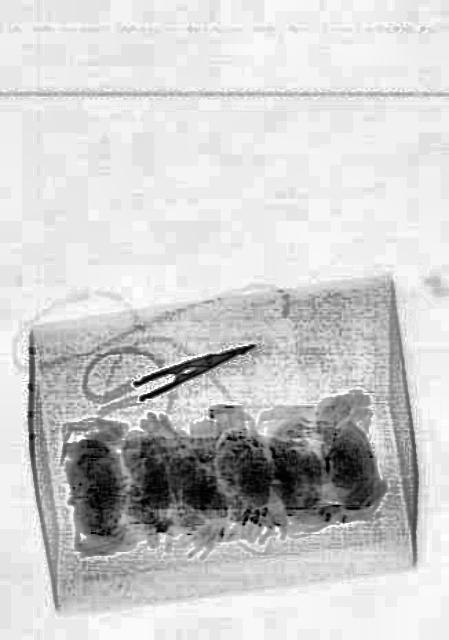Knife: (128, 330, 256, 402)
